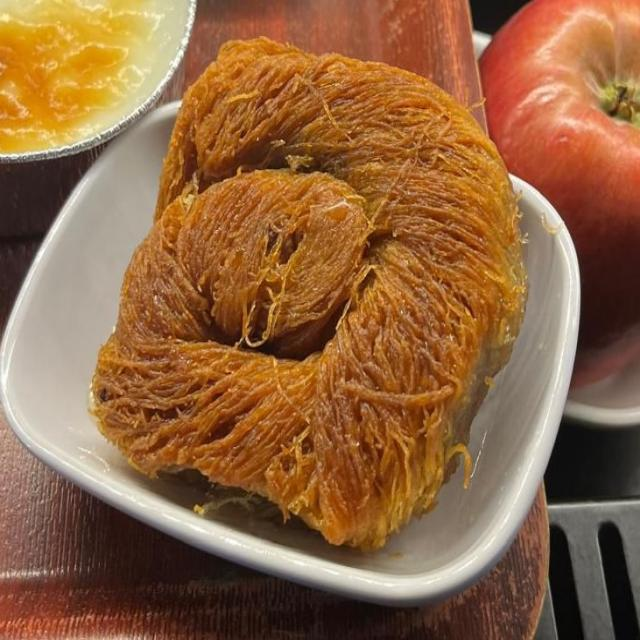yan_yemek: (87, 34, 530, 554)
